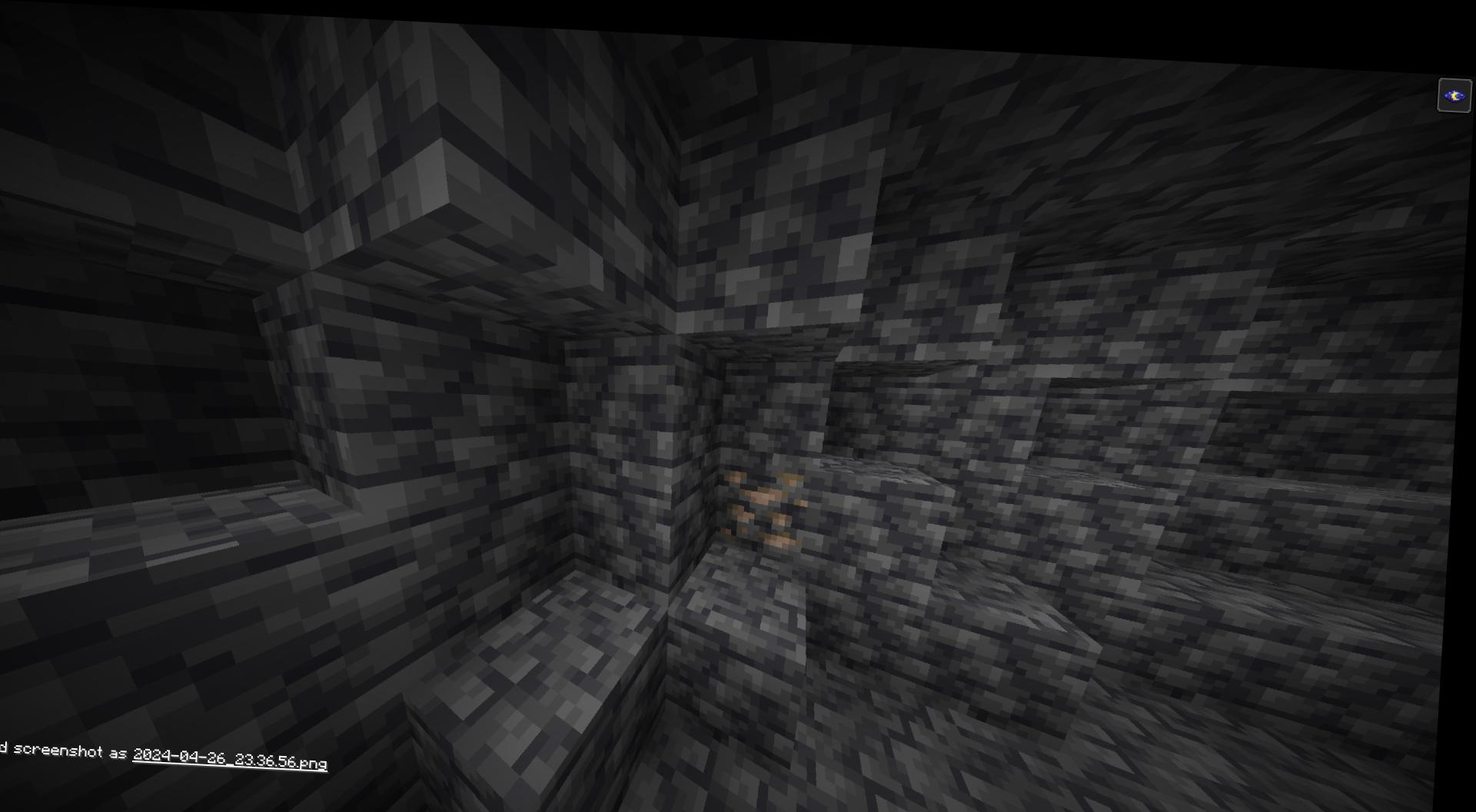iron ore: (717, 452, 819, 546)
